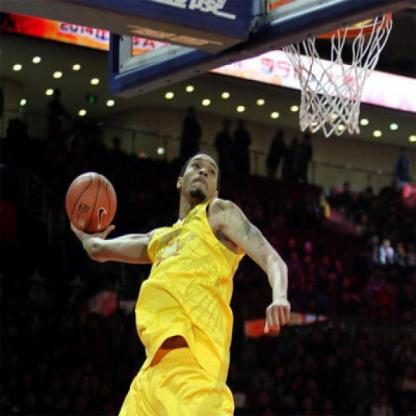basketball: (65, 171, 117, 234)
rim: (285, 12, 394, 138)
